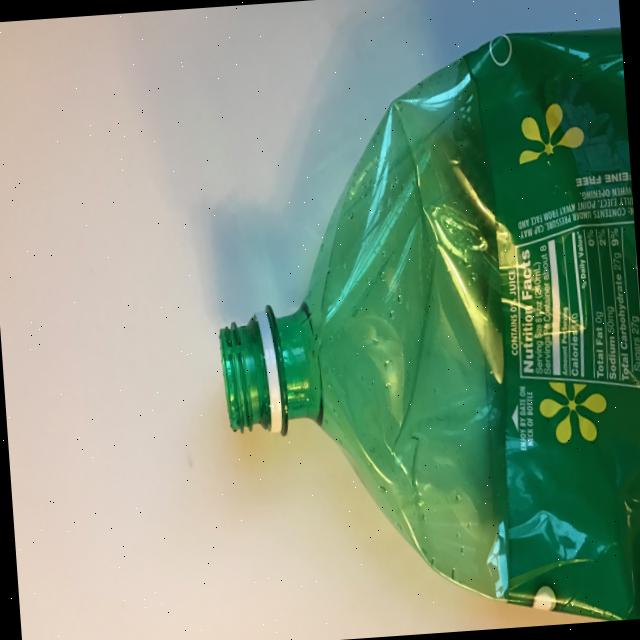plastic: (198, 24, 640, 640)
